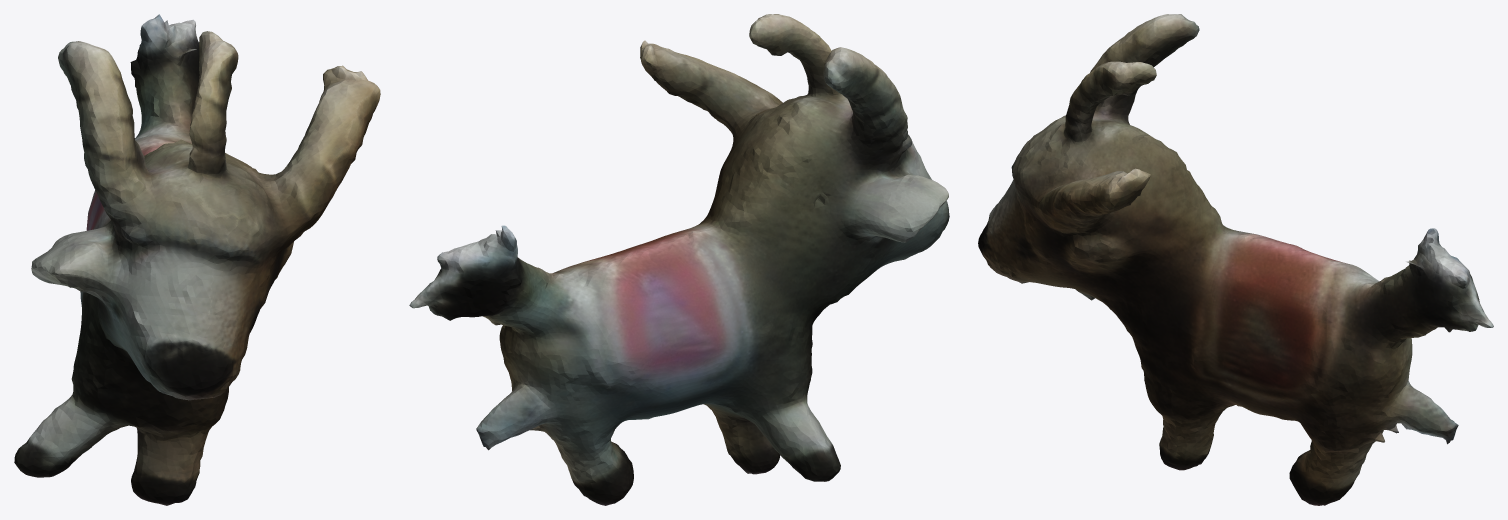
Rendered from IMG_SEG_31.glb.
3 views of the same model, side by side, from view 1: azimuth 30°, elevation 25°; view 2: azimuth 150°, elevation 25°; view 3: azimuth 270°, elevation 25° (orthographic). The views are drawn at different scales.
Bounding box in the file's own units: 0.6851 × 0.8419 × 0.9502.
1 material, 1 textured.
